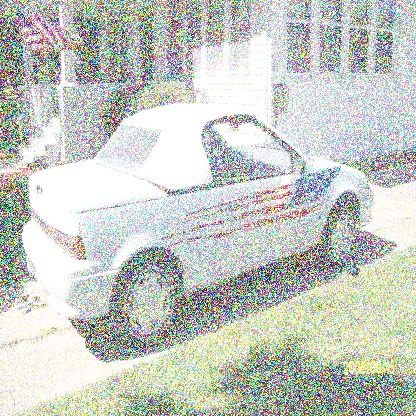Vehicle: (22, 98, 378, 352)
